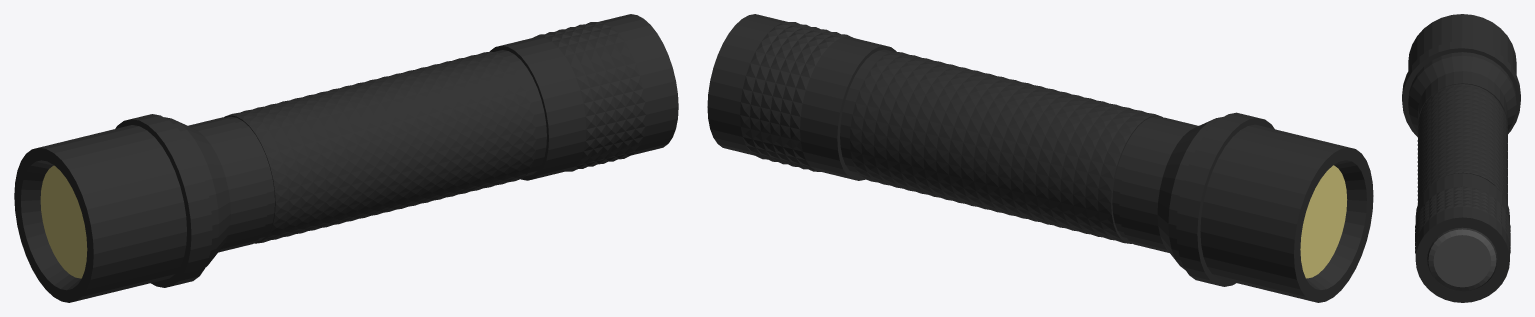
The model's file is FlashLight.fbx.
3 renders of one model, left to right at view 1: azimuth 30°, elevation 25°; view 2: azimuth 150°, elevation 25°; view 3: azimuth 270°, elevation 25°, orthographic. The views are drawn at different scales.
Parts seen in each view (by area): view 1: Cylinder.004; view 2: Cylinder.004; view 3: Cylinder.004.
Boxes of the visible parts, box(x1,y1,x2,y2) form: Cylinder.004: box(14, 14, 678, 302); Cylinder.004: box(707, 14, 1373, 302); Cylinder.004: box(1402, 14, 1520, 302).
Bounding box in the file's own units: 868 × 217 × 219.
